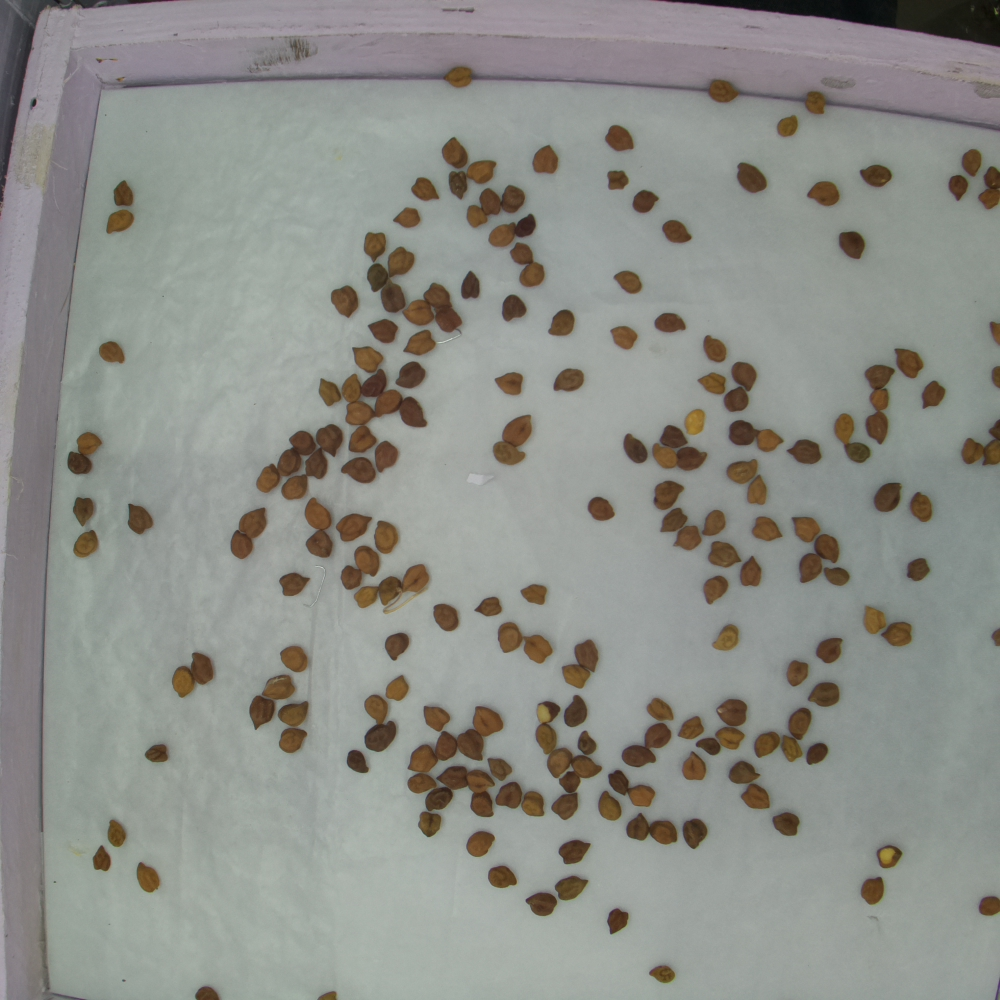desichanna: (867, 480, 905, 518), (336, 454, 380, 486), (571, 639, 611, 672), (299, 530, 336, 563), (399, 395, 432, 431), (802, 677, 842, 706), (370, 381, 403, 416), (368, 436, 400, 471), (336, 513, 371, 545), (817, 633, 849, 668), (803, 178, 841, 207), (680, 815, 708, 854), (883, 618, 917, 650), (486, 445, 533, 468), (330, 281, 359, 318), (858, 410, 895, 439), (244, 695, 277, 727), (785, 707, 817, 740), (500, 418, 539, 445), (529, 142, 558, 178), (804, 733, 833, 769), (352, 546, 389, 574), (612, 268, 650, 295), (835, 228, 867, 260), (521, 633, 553, 665), (892, 346, 927, 375), (650, 813, 677, 850), (603, 121, 633, 154), (547, 306, 577, 339), (708, 540, 742, 569), (367, 722, 395, 757), (655, 478, 685, 510), (750, 512, 782, 542), (865, 357, 897, 387), (239, 504, 268, 537), (474, 704, 503, 737), (771, 809, 805, 837), (724, 453, 758, 481), (659, 218, 697, 243), (694, 372, 735, 395), (403, 328, 435, 357), (727, 762, 761, 789), (712, 700, 750, 724), (618, 743, 653, 769), (732, 419, 758, 454), (303, 500, 333, 530), (736, 162, 765, 193), (464, 828, 495, 857), (791, 434, 820, 465), (455, 725, 483, 757), (812, 531, 844, 559), (350, 345, 383, 372), (399, 357, 426, 390), (655, 309, 688, 336), (729, 359, 756, 392), (702, 328, 727, 363), (702, 571, 727, 606), (514, 263, 552, 286), (532, 724, 562, 753), (739, 781, 770, 809), (709, 77, 741, 104), (65, 445, 92, 477), (361, 228, 388, 260), (376, 279, 403, 311), (399, 566, 435, 590), (420, 704, 452, 731), (562, 692, 586, 728), (623, 430, 647, 466), (903, 556, 935, 583), (409, 175, 442, 201), (342, 431, 379, 454), (436, 760, 465, 789), (494, 781, 523, 810), (821, 563, 852, 590), (373, 522, 399, 554), (753, 728, 779, 760), (858, 165, 892, 189), (465, 159, 499, 183), (277, 648, 311, 672), (626, 812, 650, 846), (421, 280, 449, 309), (189, 654, 217, 683), (550, 796, 579, 824), (609, 324, 639, 351), (756, 424, 783, 454), (441, 137, 467, 168), (477, 593, 503, 624), (489, 624, 520, 650), (874, 845, 909, 868), (492, 374, 530, 395), (441, 66, 474, 90), (344, 400, 377, 424), (276, 698, 309, 722), (559, 665, 592, 689), (738, 556, 762, 589), (405, 743, 433, 771), (403, 300, 432, 327), (679, 440, 706, 469), (433, 603, 459, 633), (467, 792, 497, 818), (559, 839, 589, 865), (592, 789, 618, 819), (709, 624, 739, 650), (832, 406, 858, 436), (861, 874, 885, 906), (74, 430, 106, 454), (570, 753, 602, 777), (129, 503, 152, 536), (232, 530, 255, 563), (386, 248, 414, 275), (518, 578, 545, 606), (403, 771, 439, 792), (795, 556, 823, 583), (630, 189, 659, 215), (683, 410, 709, 439), (586, 496, 615, 522), (789, 516, 818, 542), (133, 860, 158, 890), (526, 893, 556, 918), (673, 525, 703, 550), (641, 696, 671, 721), (683, 750, 708, 780), (502, 293, 524, 327), (367, 319, 399, 342), (389, 207, 424, 228), (302, 451, 329, 478), (641, 724, 671, 748), (171, 666, 192, 700), (447, 172, 470, 203), (256, 462, 279, 493), (842, 442, 873, 465), (380, 577, 402, 609), (279, 571, 308, 595), (285, 430, 318, 451), (712, 725, 745, 746), (74, 530, 97, 560), (279, 478, 309, 501), (489, 215, 511, 246), (385, 634, 411, 660), (103, 210, 135, 231), (277, 727, 305, 751), (364, 693, 388, 721), (608, 909, 632, 937), (512, 218, 544, 239), (911, 489, 932, 521), (923, 383, 944, 415), (264, 678, 294, 700), (864, 387, 894, 409), (353, 587, 379, 612), (518, 792, 545, 816), (142, 743, 170, 766), (92, 843, 112, 875), (503, 181, 523, 213), (538, 753, 567, 775), (867, 601, 886, 634), (315, 424, 339, 450), (276, 450, 302, 474), (945, 174, 968, 201), (653, 439, 676, 466), (95, 342, 126, 362), (624, 786, 655, 806), (658, 510, 689, 530), (958, 437, 980, 465), (383, 678, 411, 700), (959, 146, 980, 175), (785, 659, 809, 684), (574, 729, 597, 755), (553, 366, 579, 389), (489, 868, 517, 889), (74, 498, 92, 530), (605, 169, 629, 193), (423, 792, 455, 810), (105, 815, 124, 845), (317, 377, 338, 404), (462, 766, 489, 787), (659, 422, 682, 446), (679, 718, 708, 737), (780, 728, 797, 760), (435, 309, 459, 331), (414, 812, 439, 833), (461, 269, 479, 298), (435, 733, 453, 762), (749, 475, 767, 504), (341, 371, 358, 401), (977, 895, 1000, 917), (511, 242, 533, 265), (776, 115, 797, 139), (347, 750, 368, 774), (482, 187, 500, 215), (114, 180, 133, 206), (726, 387, 745, 413), (647, 963, 674, 981), (367, 262, 385, 289), (703, 510, 726, 531), (805, 90, 824, 115), (695, 739, 718, 759), (976, 189, 1000, 208), (341, 562, 359, 587), (556, 878, 586, 893), (538, 700, 556, 724), (485, 760, 509, 777), (609, 772, 626, 796), (361, 378, 382, 396), (985, 446, 1000, 468), (194, 987, 218, 1000), (986, 624, 1000, 646), (470, 206, 483, 228), (988, 362, 1000, 385), (988, 416, 1000, 439), (564, 777, 582, 792), (988, 166, 999, 189), (988, 318, 1000, 339), (318, 990, 337, 1000)
